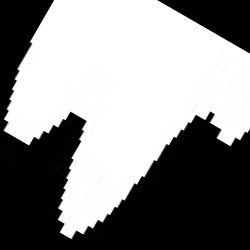spot: (3, 1, 248, 237)
